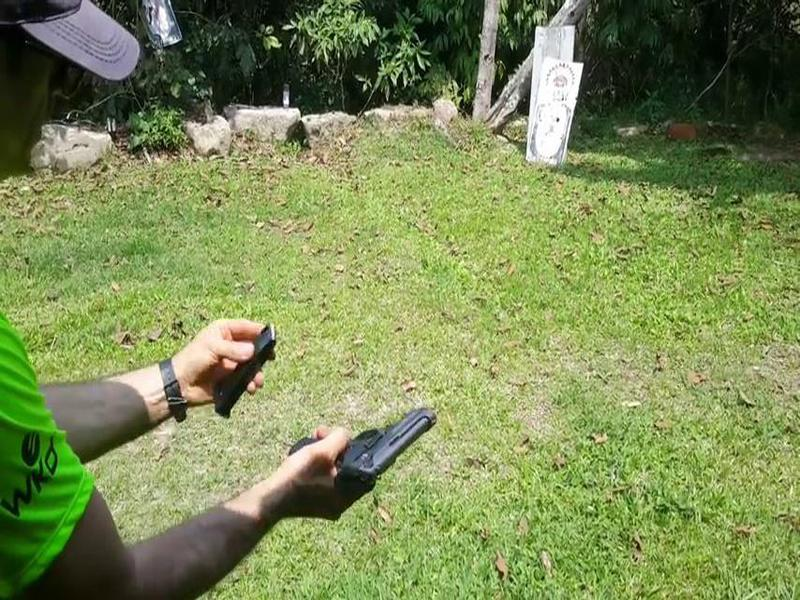Pistola: (301, 397, 440, 481)
